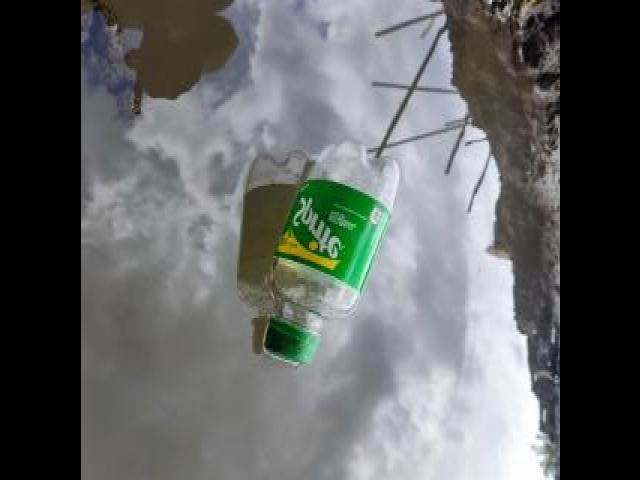Bottle: (250, 146, 414, 382)
